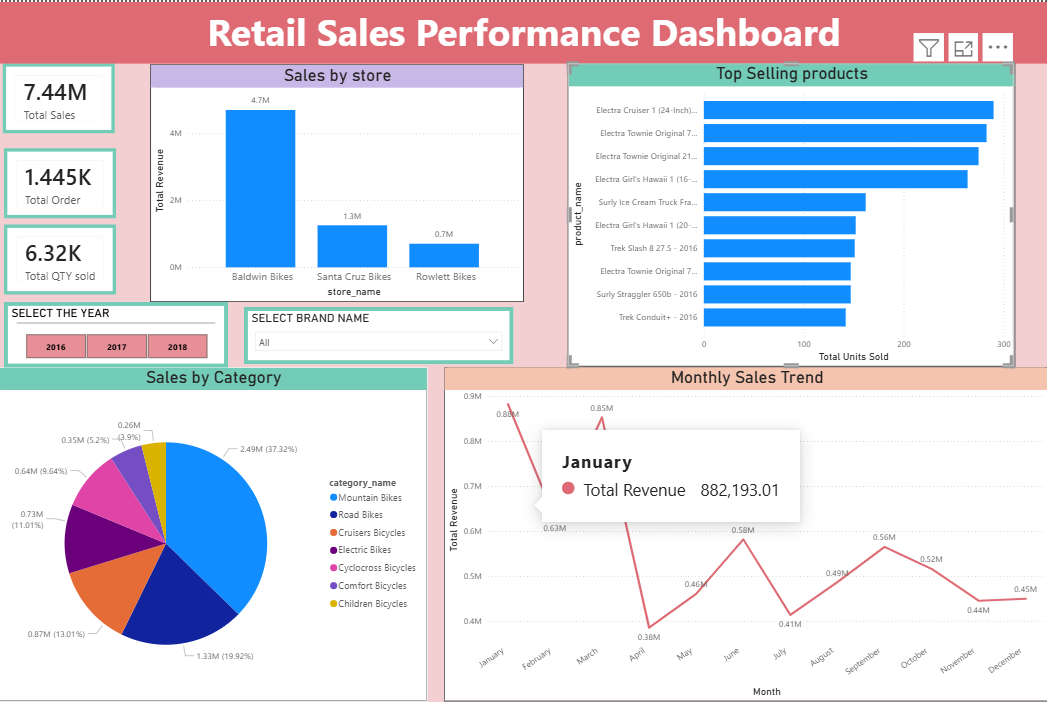

This screenshot's page, from the dashboard's own definition file:
{"tool":"powerbi","page":{"name":"Sales Dashboard","canvas":[1500,1000],"ordinal":0},"visuals":[{"type":"cardVisual","fields":{"Data":["Sum(v_sales_summary.line_item_total)"]},"box":[5.1,88.1,160,100],"z":0},{"type":"cardVisual","fields":{"Data":["Count(v_sales_summary.order_id)"]},"box":[6.8,208.5,160,100],"z":1000},{"type":"cardVisual","fields":{"Data":["Sum(v_top_performing_products.total_units_sold)"]},"box":[6.8,318.6,160,100],"z":2000},{"type":"pieChart","title":"Sales by Category","fields":{"Category":["categories.category_name"],"Y":["orders_clean.Total Revenue"]},"box":[0,522,611.9,478],"z":3000},{"type":"clusteredColumnChart","title":"Sales by store","fields":{"Category":["stores.store_name"],"Y":["orders_clean.Total Revenue"]},"box":[216.9,89.8,533.9,339],"z":4000},{"type":"clusteredBarChart","title":"Top Selling products","fields":{"Category":["products_cleaned.product_name"],"Y":["order_items_cleaned.Total Units Sold"]},"box":[811.9,88.1,639,433.9],"z":5000},{"type":"lineChart","title":"Monthly Sales Trend","fields":{"Y":["orders_clean.Total Revenue"],"Category":["Date Table.Date.Variation.Date Hierarchy.Month"]},"box":[635.6,522,864.4,478],"z":6000},{"type":"slicer","title":"SELECT THE YEAR","fields":{"Values":["Date Table.Date.Variation.Date Hierarchy.Year"]},"box":[6.8,428.8,320.3,93.2],"z":7000},{"type":"textbox","box":[0,0,1500,88.1],"z":8000},{"type":"slicer","title":"SELECT BRAND NAME","fields":{"Values":["brands.brand_name"]},"box":[349.2,435.6,384.7,81.4],"z":8001}]}

Visuals, with their boxes in screenshot pixels (x1, y1, x2, y2), scaled from the page's 1500x1000 canvas onto the 1047x702 screenshot:
cardVisual - Sum(v_sales_summary.line_item_total): [4,62,115,132]
cardVisual - Count(v_sales_summary.order_id): [5,146,116,217]
cardVisual - Sum(v_top_performing_products.total_units_sold): [5,224,116,294]
"Sales by Category" pieChart: [0,366,427,701]
"Sales by store" clusteredColumnChart: [151,63,524,301]
"Top Selling products" clusteredBarChart: [567,62,1013,366]
"Monthly Sales Trend" lineChart: [444,366,1046,701]
"SELECT THE YEAR" slicer: [5,301,228,366]
textbox: [0,0,1046,62]
"SELECT BRAND NAME" slicer: [244,306,512,363]
